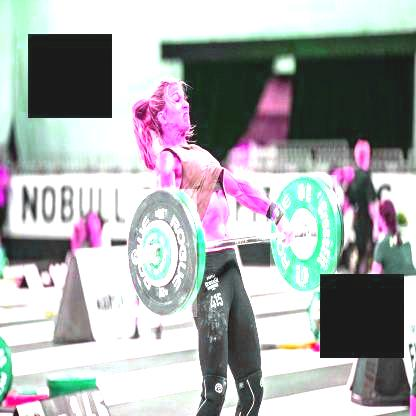barbell: (128, 190, 197, 317), (270, 176, 338, 293)
